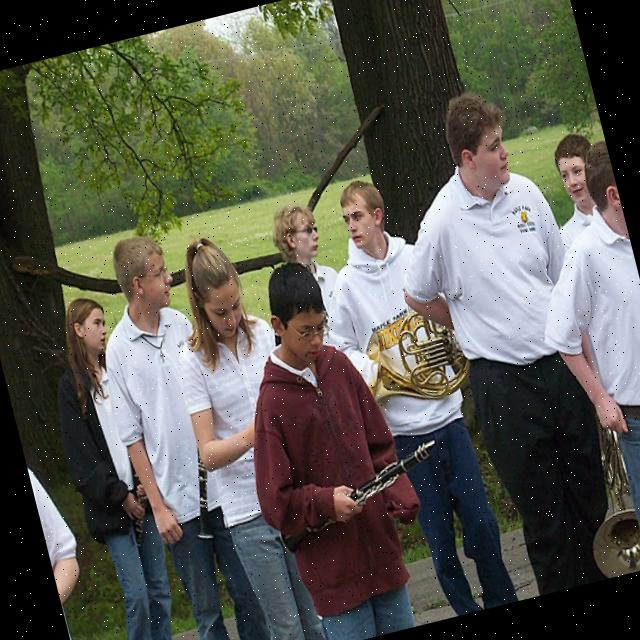clarinet: (264, 434, 458, 557), (171, 429, 232, 548), (114, 464, 168, 555)
